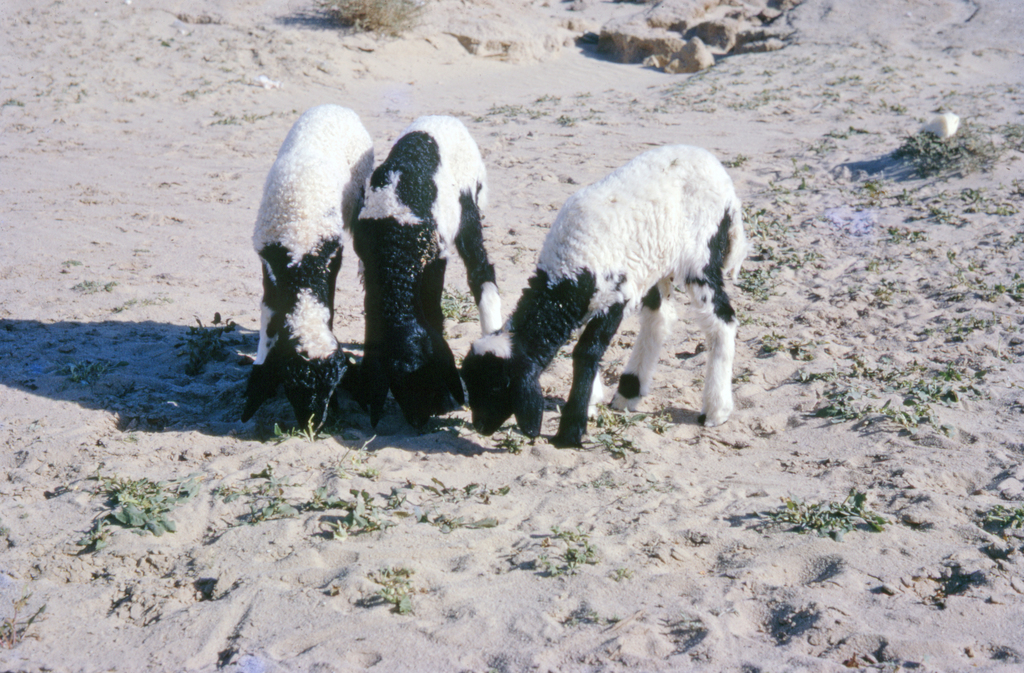sheep: (456, 144, 750, 451)
